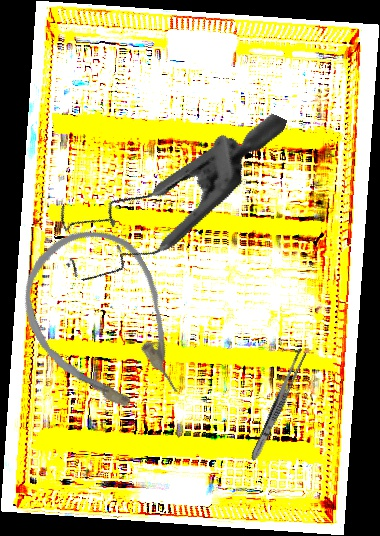Cannula: (0, 208, 208, 441)
Dressing Forceps: (247, 346, 309, 464)
Speculum: (37, 48, 288, 331)
